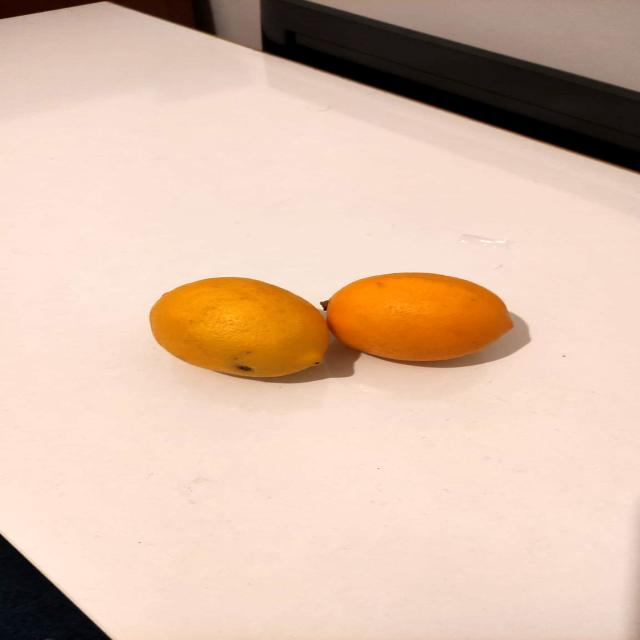lemon: (142, 273, 335, 384), (320, 268, 518, 364)
